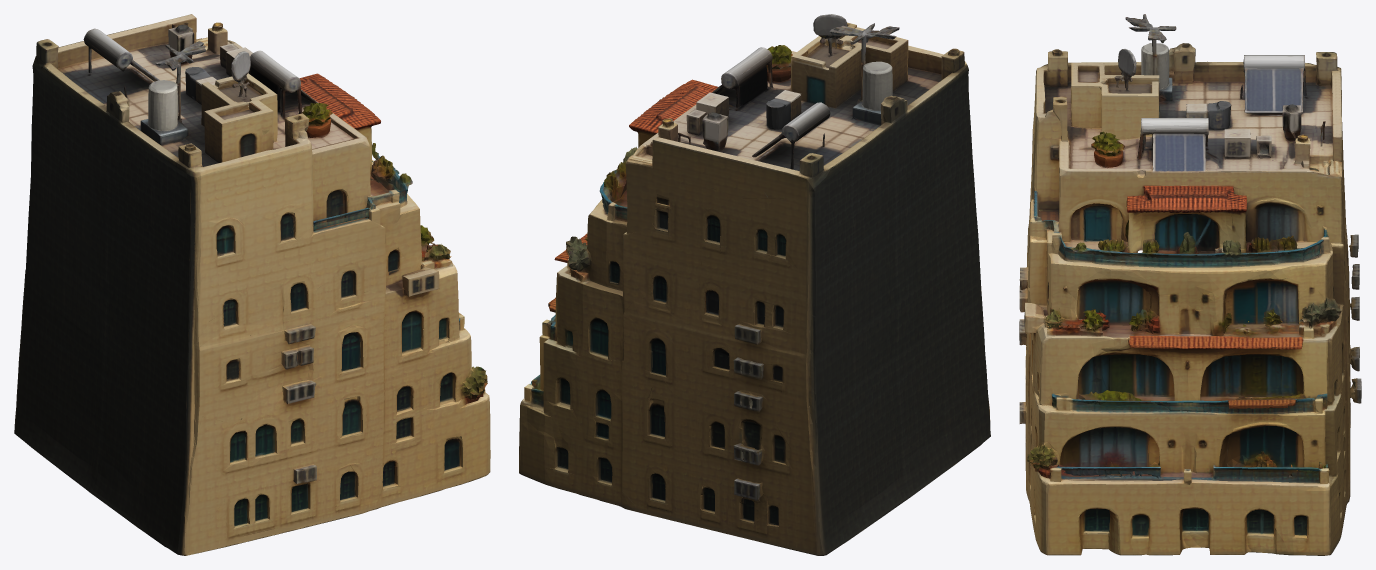
Rendered from r3_jer_flat_6t.glb.
The picture shows the model from 3 angles, left to right: view 1: azimuth 30°, elevation 25°; view 2: azimuth 150°, elevation 25°; view 3: azimuth 270°, elevation 25°; orthographic projection. The views are drawn at different scales.
Parts seen in each view (by area): view 1: world; view 2: world; view 3: world.
Part boxes in pixels (<box>): world: <box>14,14,490,555</box>; world: <box>519,14,990,555</box>; world: <box>1019,14,1361,555</box>.
Size of the model in its own units: 0.7676 by 0.9882 by 0.7429.
1 material, 1 textured.
